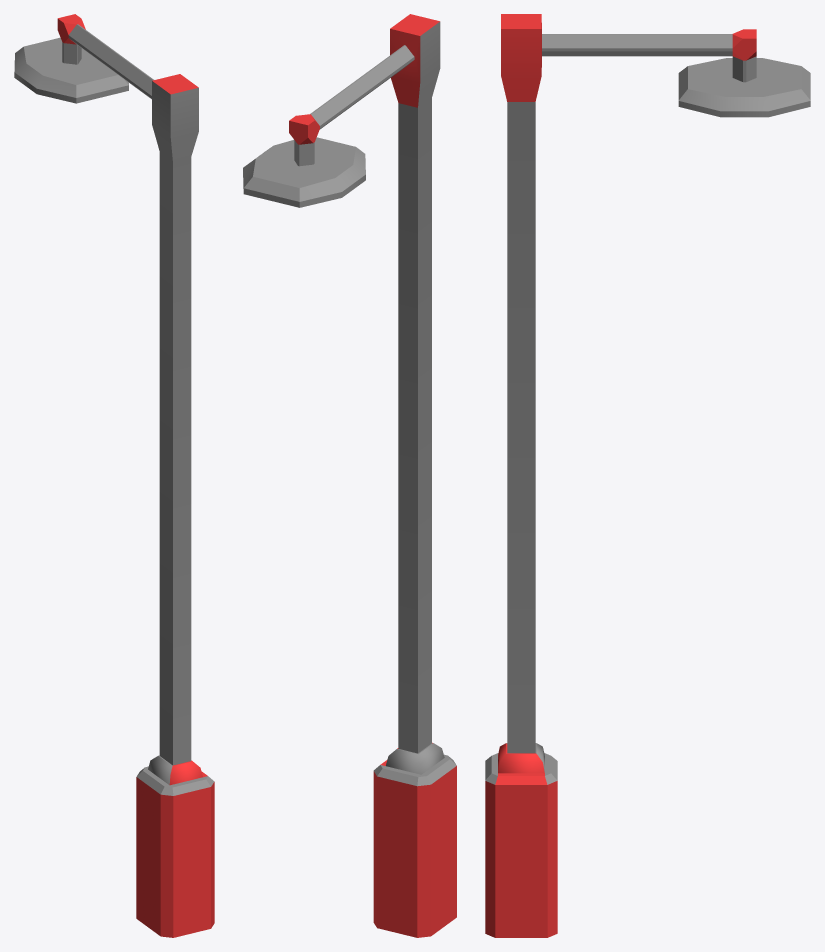
Rendered from streetLight.FBX.
3 renders of one model, left to right at view 1: azimuth 30°, elevation 25°; view 2: azimuth 150°, elevation 25°; view 3: azimuth 270°, elevation 25°, orthographic. The views are drawn at different scales.
Visible parts, largest first — view 1: lampPost; view 2: lampPost; view 3: lampPost.
Boxes of the visible parts, box(x1,y1,x2,y2) form: lampPost: box(14, 14, 214, 937); lampPost: box(243, 14, 456, 937); lampPost: box(485, 14, 810, 937).
Size of the model in its own units: 21.17 by 183 by 59.79.
